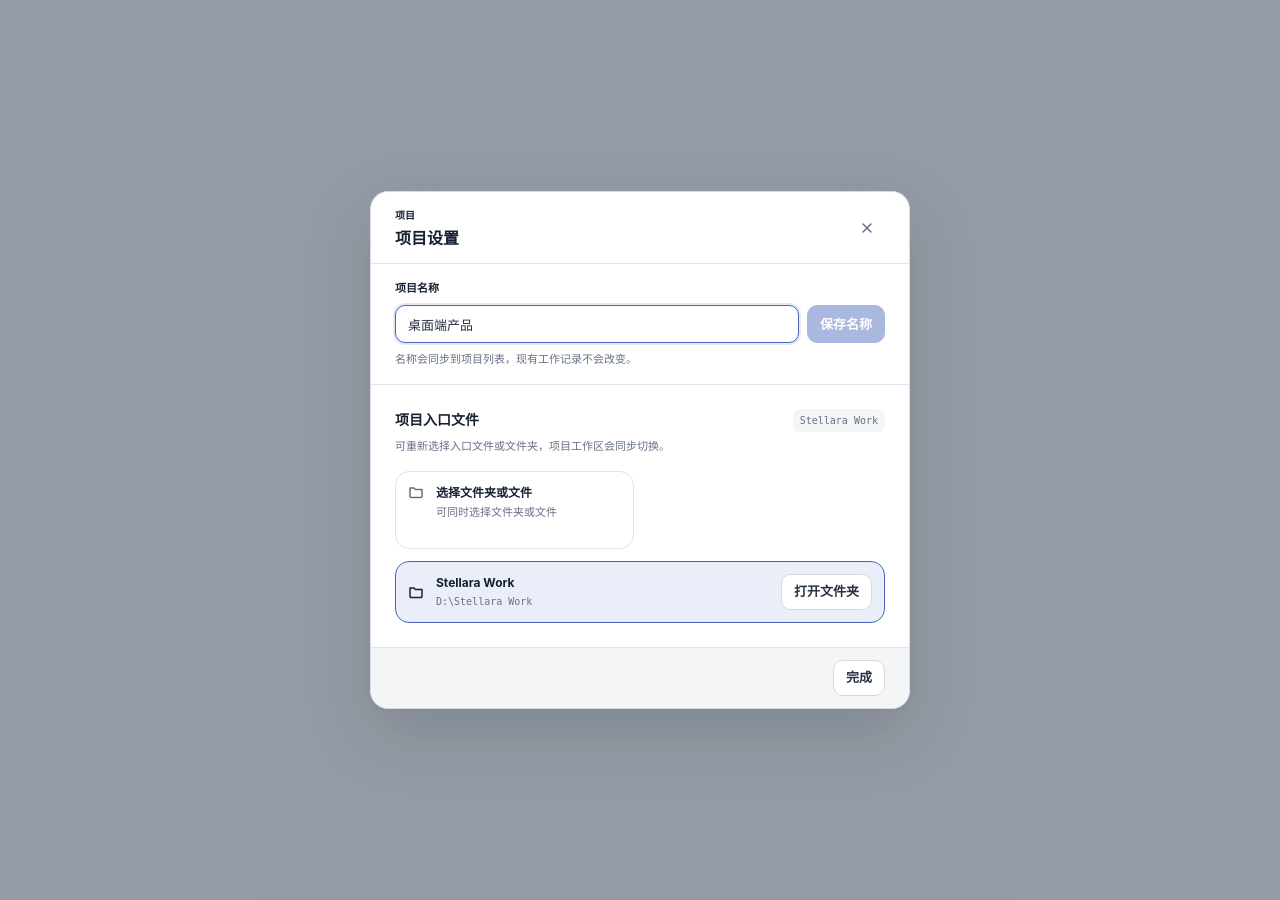
Test: ProjectDialog › announces picker errors and closes with Escape
Click the button "选择文件夹或文件 可同时选择文件夹或文件" at (514, 510), box [395,471,634,549]
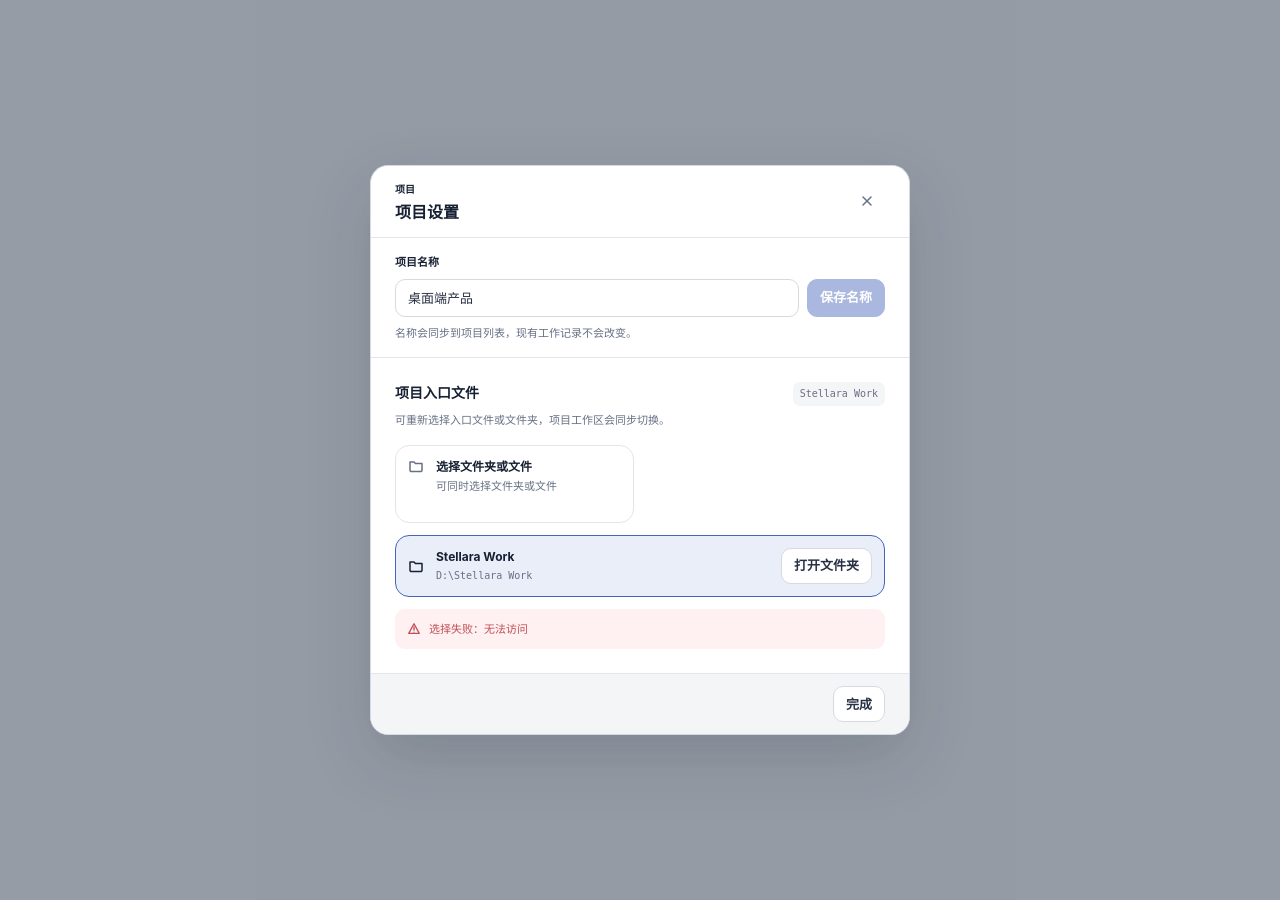
Result: the message "选择失败：无法访问" is shown at [395,609,885,649]
